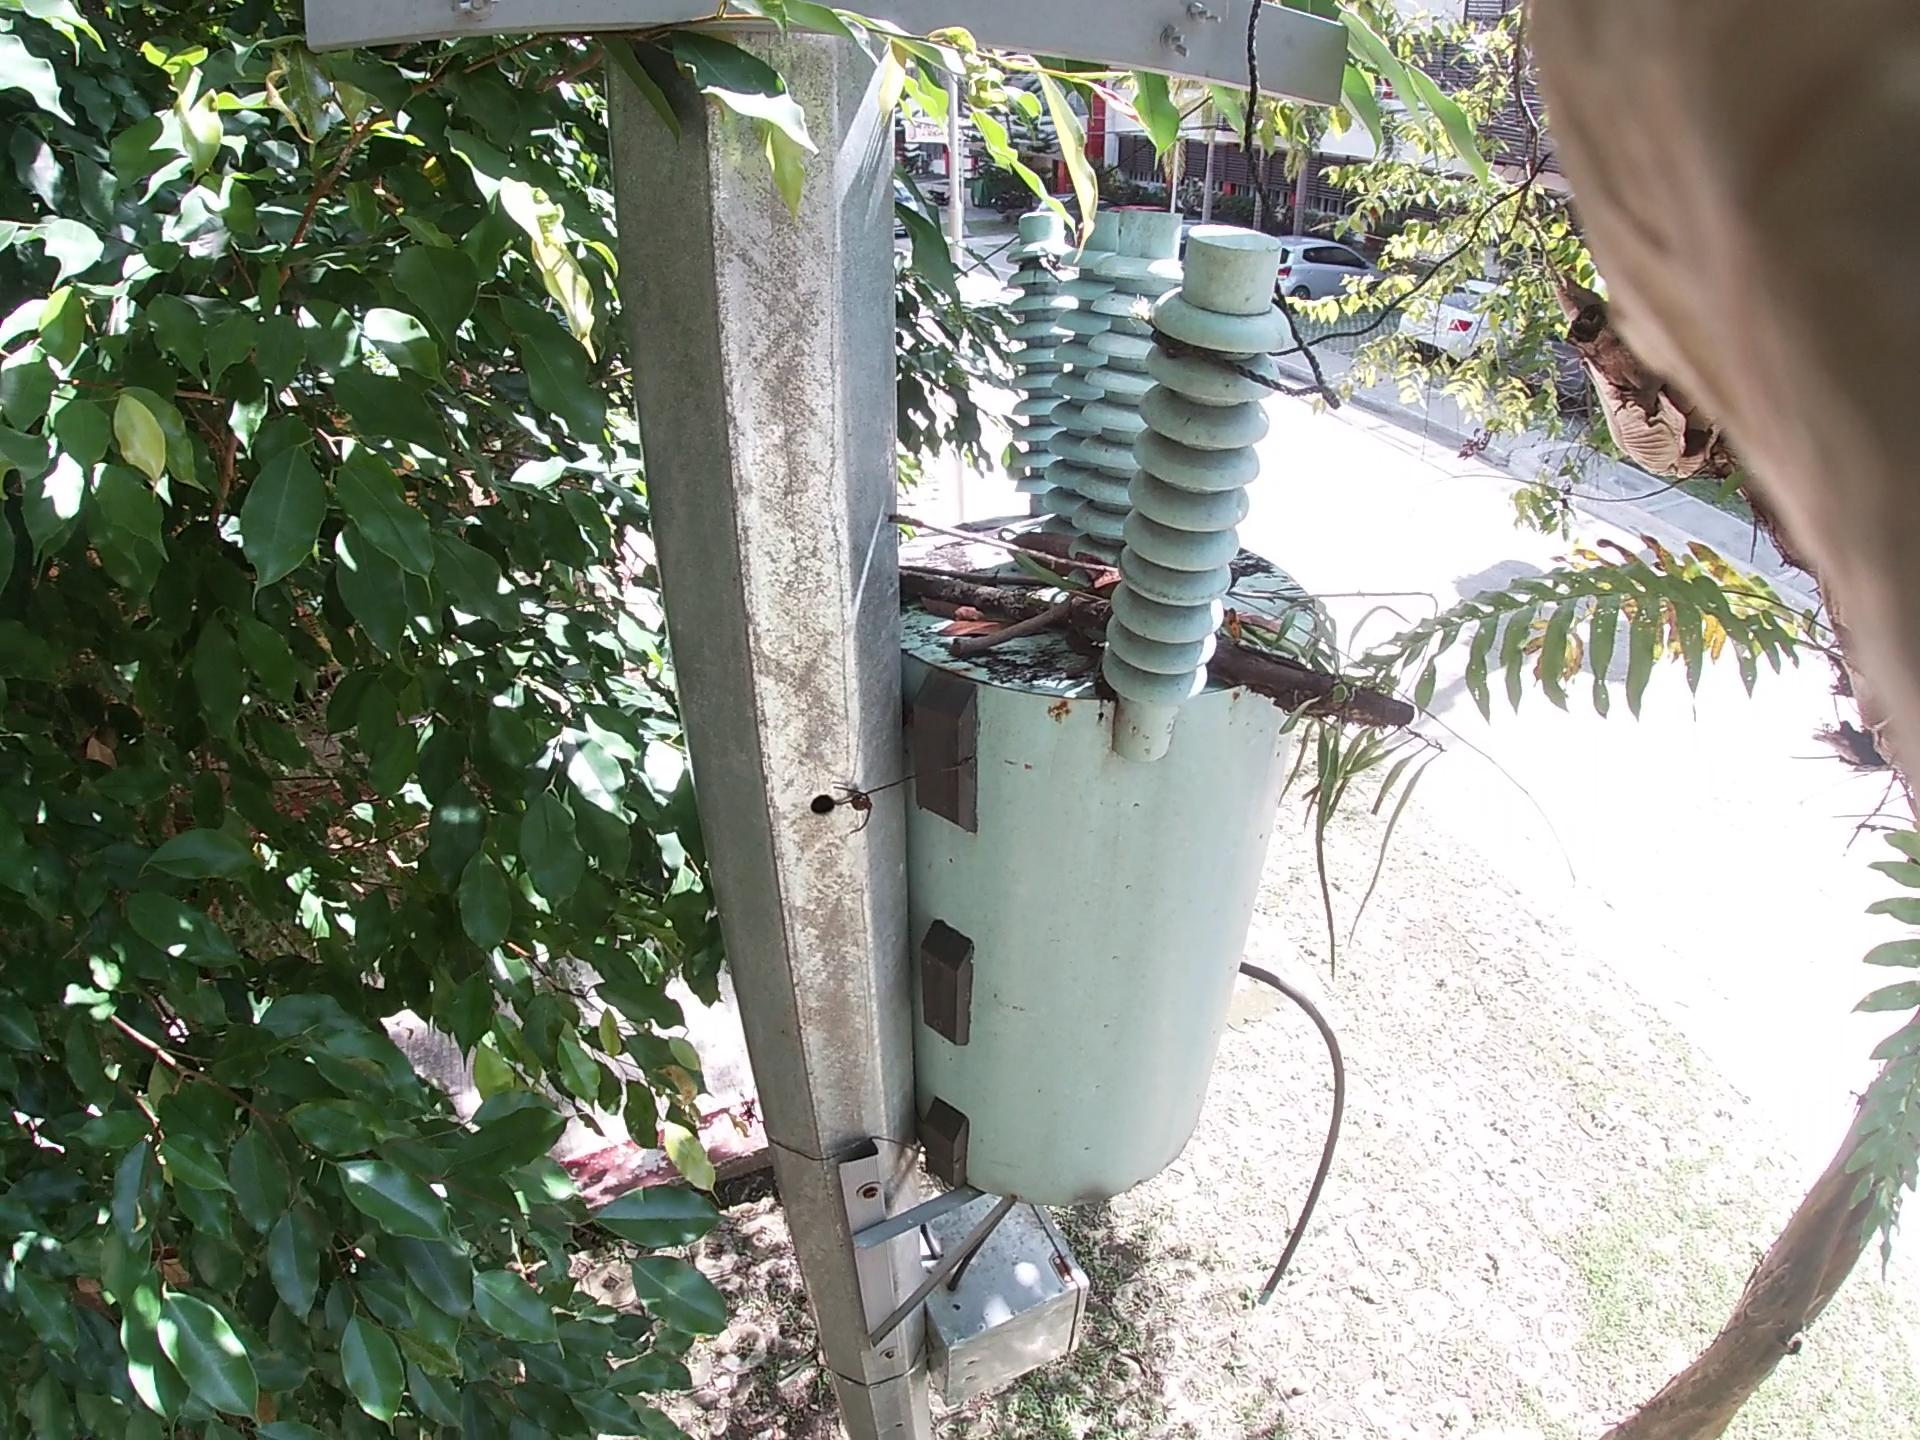branch with leaves: (954, 554, 1457, 768)
leaf: (928, 582, 972, 653)
mahogany fruit: (1001, 522, 1208, 637)
tree branch: (877, 484, 1545, 862), (940, 597, 1081, 703), (884, 520, 1132, 551)
